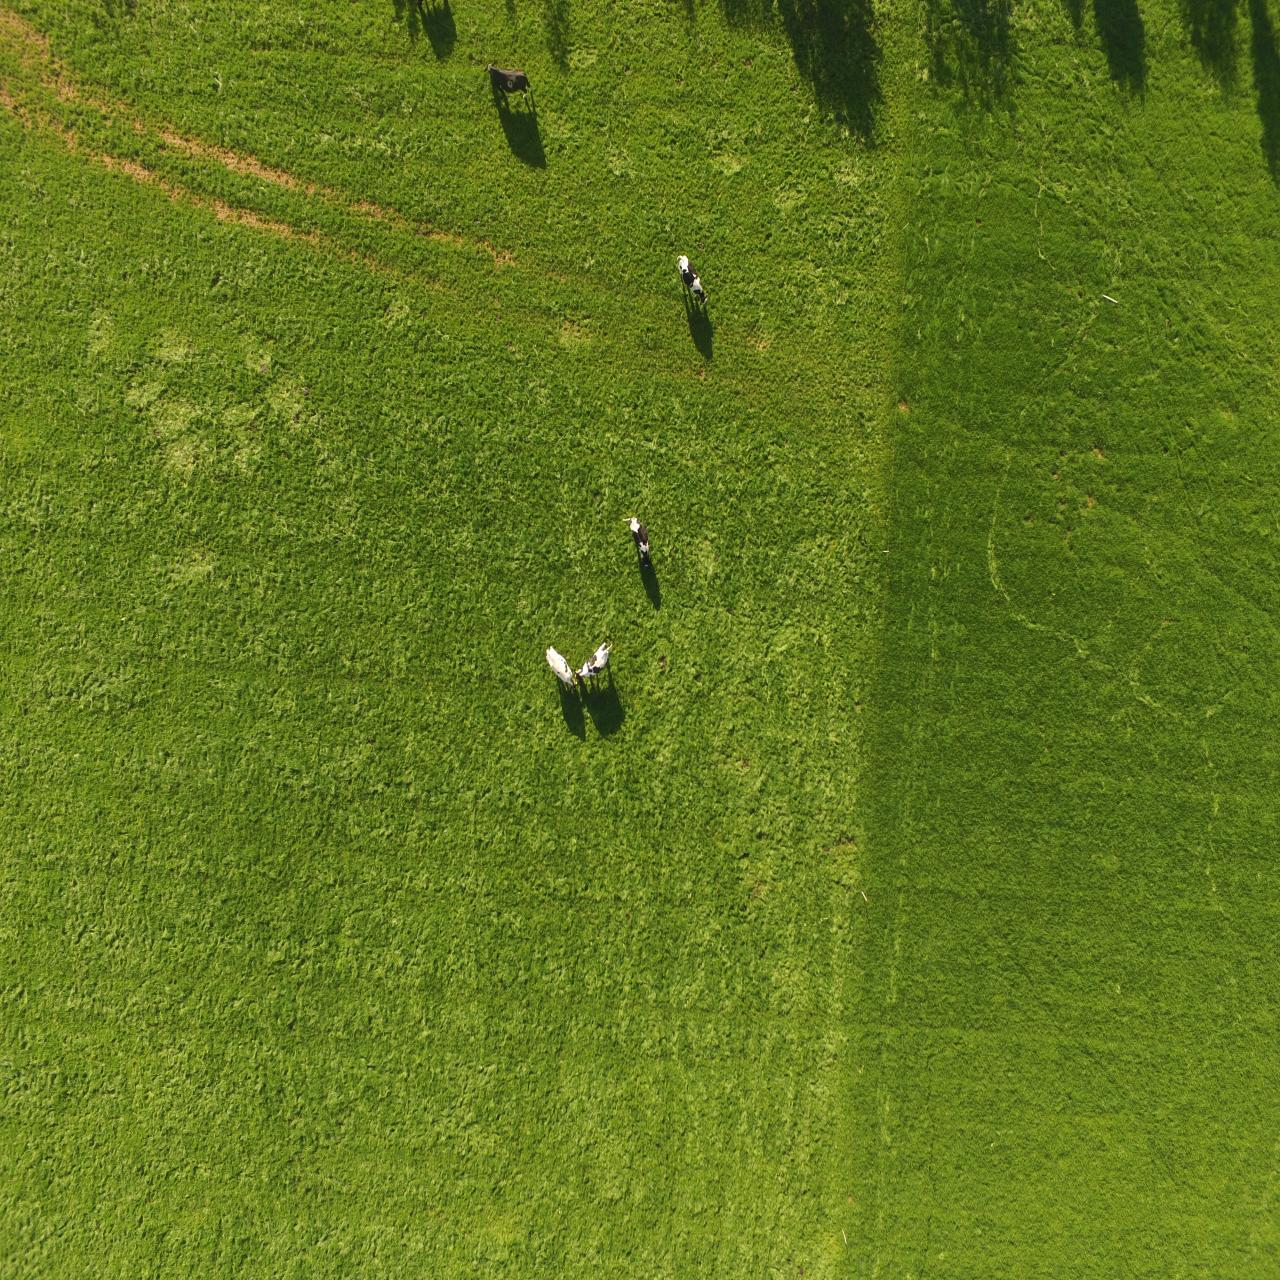cow: (672, 252, 709, 327), (485, 62, 539, 107), (625, 510, 658, 578), (579, 635, 614, 692), (543, 644, 580, 694)
